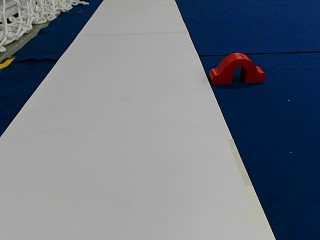bridge: (211, 52, 264, 82)
